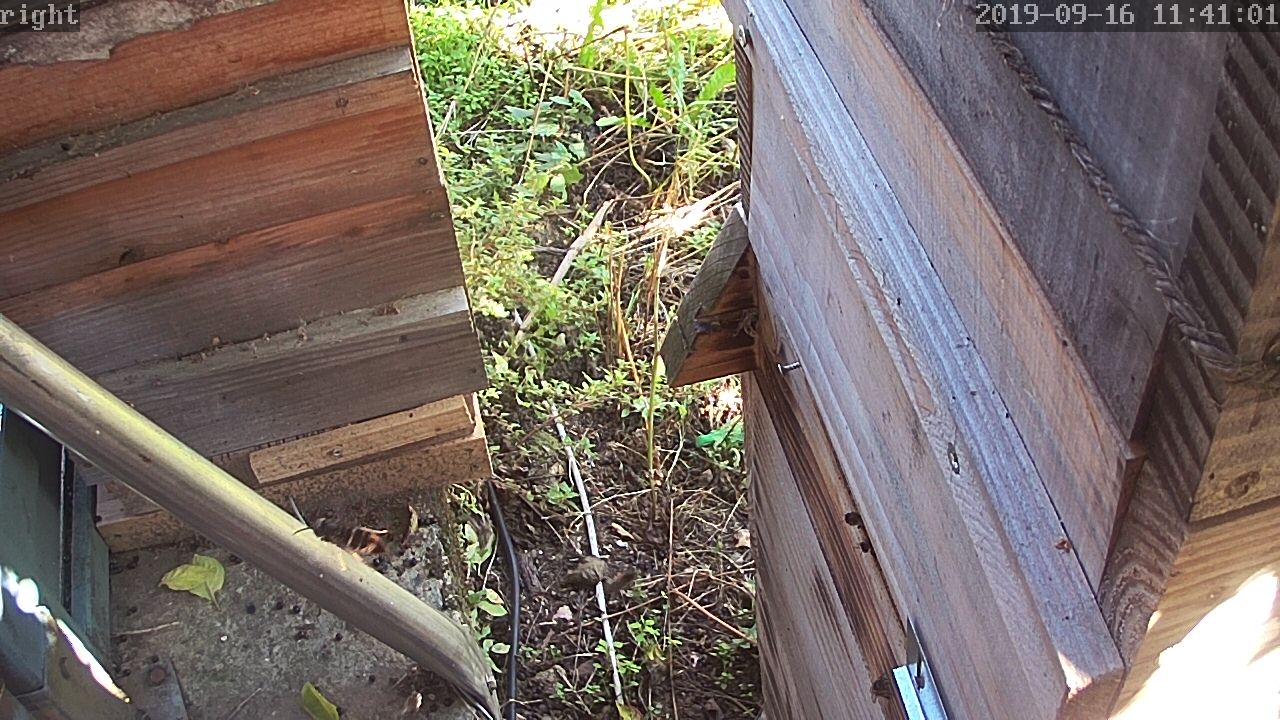bee: (862, 672, 895, 704), (855, 533, 881, 564), (838, 508, 861, 529)
hornet: (298, 508, 394, 563)
